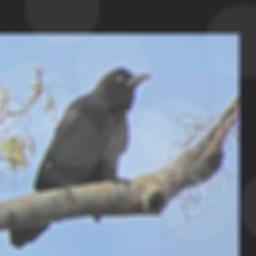Crow: (8, 68, 150, 249)
